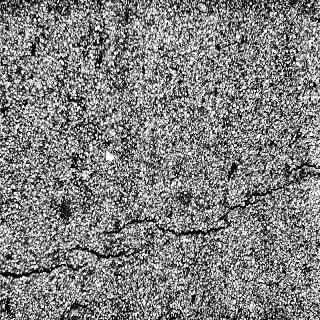crack: (217, 162, 320, 222), (1, 246, 146, 280), (103, 209, 231, 244)
